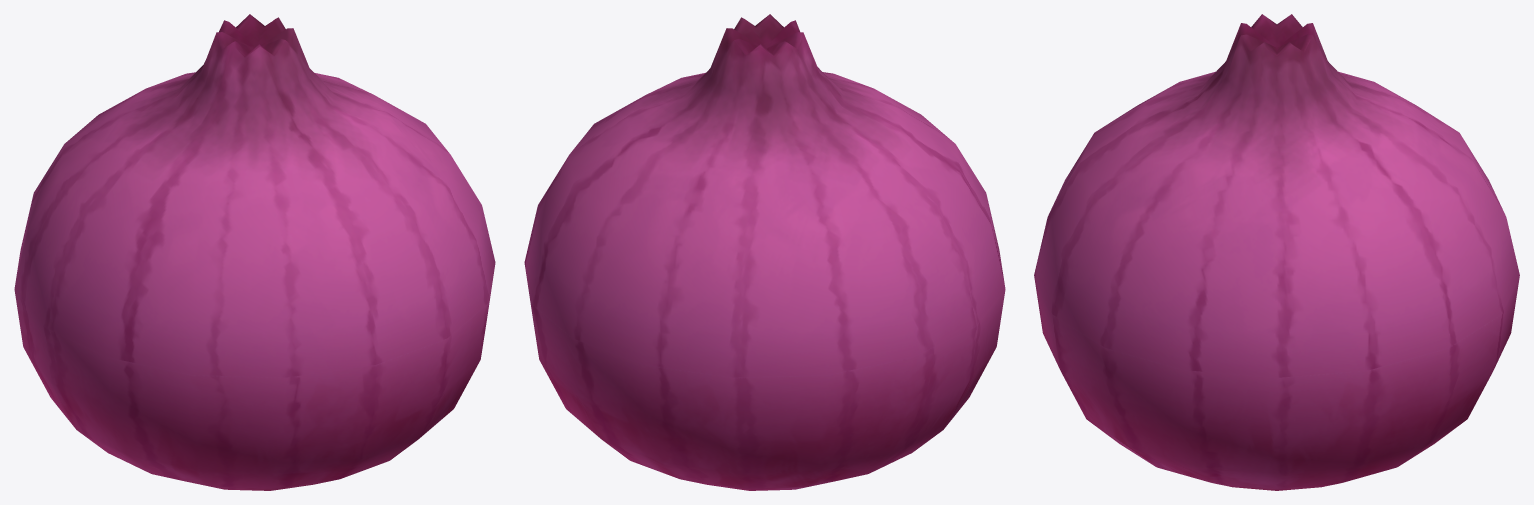
File: onion.glb
3 views of the same model, side by side, from view 1: azimuth 30°, elevation 25°; view 2: azimuth 150°, elevation 25°; view 3: azimuth 270°, elevation 25° (orthographic).
Parts seen in each view (by area): view 1: Onion; view 2: Onion; view 3: Onion.
Boxes of the visible parts, x1,y1,x2,y2 form: Onion: (14, 14, 495, 490); Onion: (524, 14, 1005, 490); Onion: (1034, 14, 1519, 490).
Size of what is drawn, in the model's own units: 1.01 by 1.03 by 1.01.
Materials: 1 (1 with a texture image).
